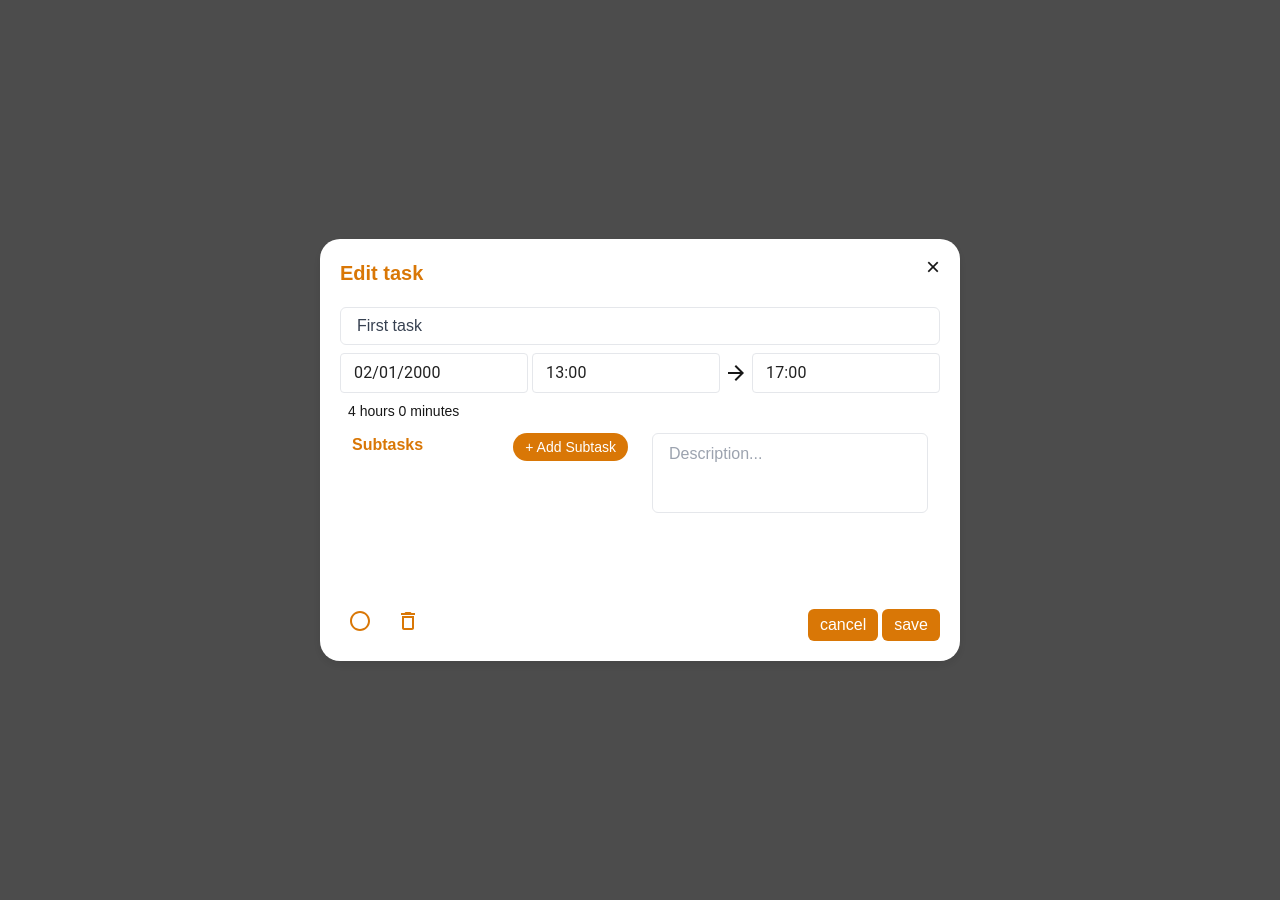
Test case: add subtask button
The image size is (1280, 900).
Click the button "+ Add Subtask".
click(571, 447)  # box [513,433,628,461]
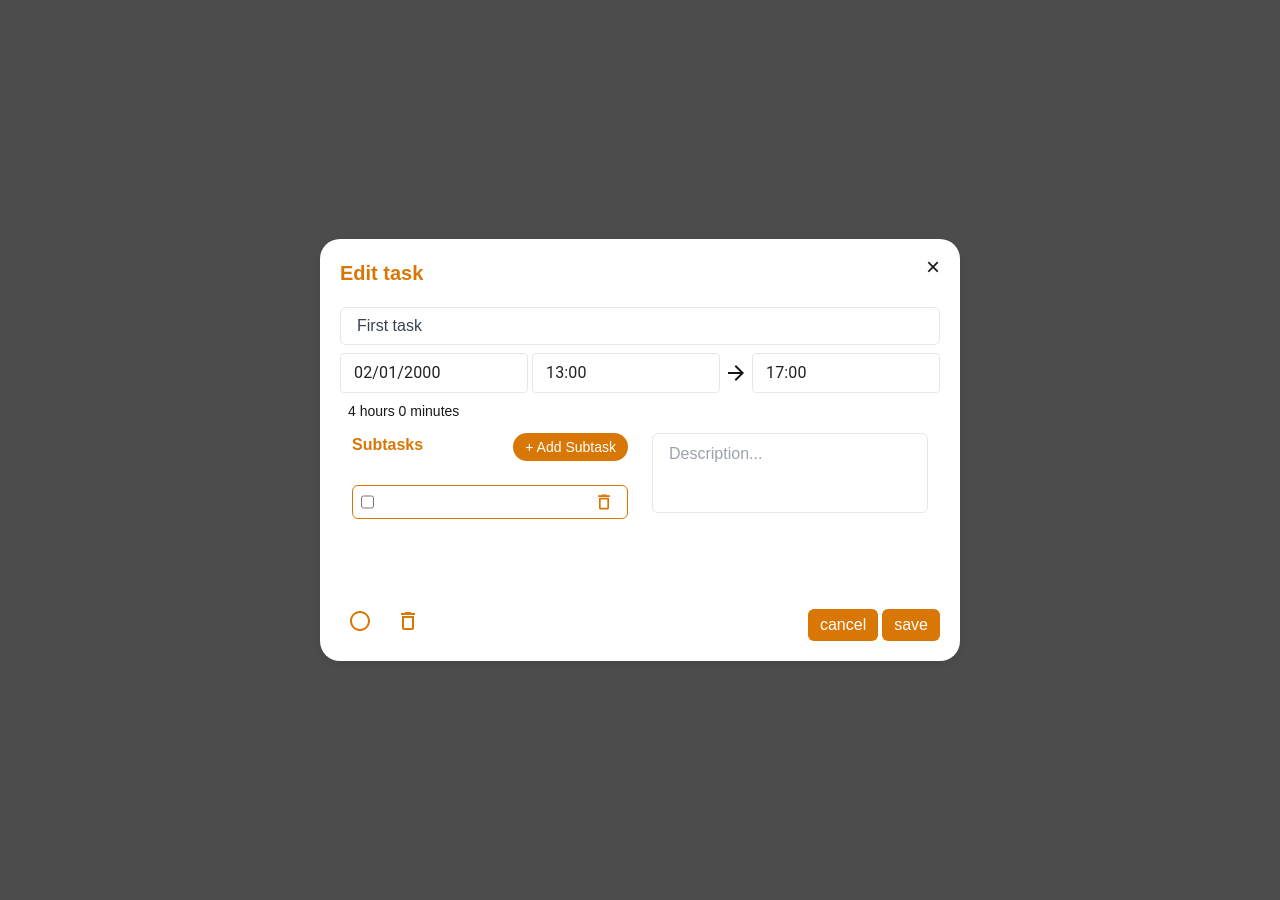
Result: the number of list items is 1 at [352,485,628,519]
Click the button "+ Add Subtask".
click(571, 447)  # box [513,433,628,461]
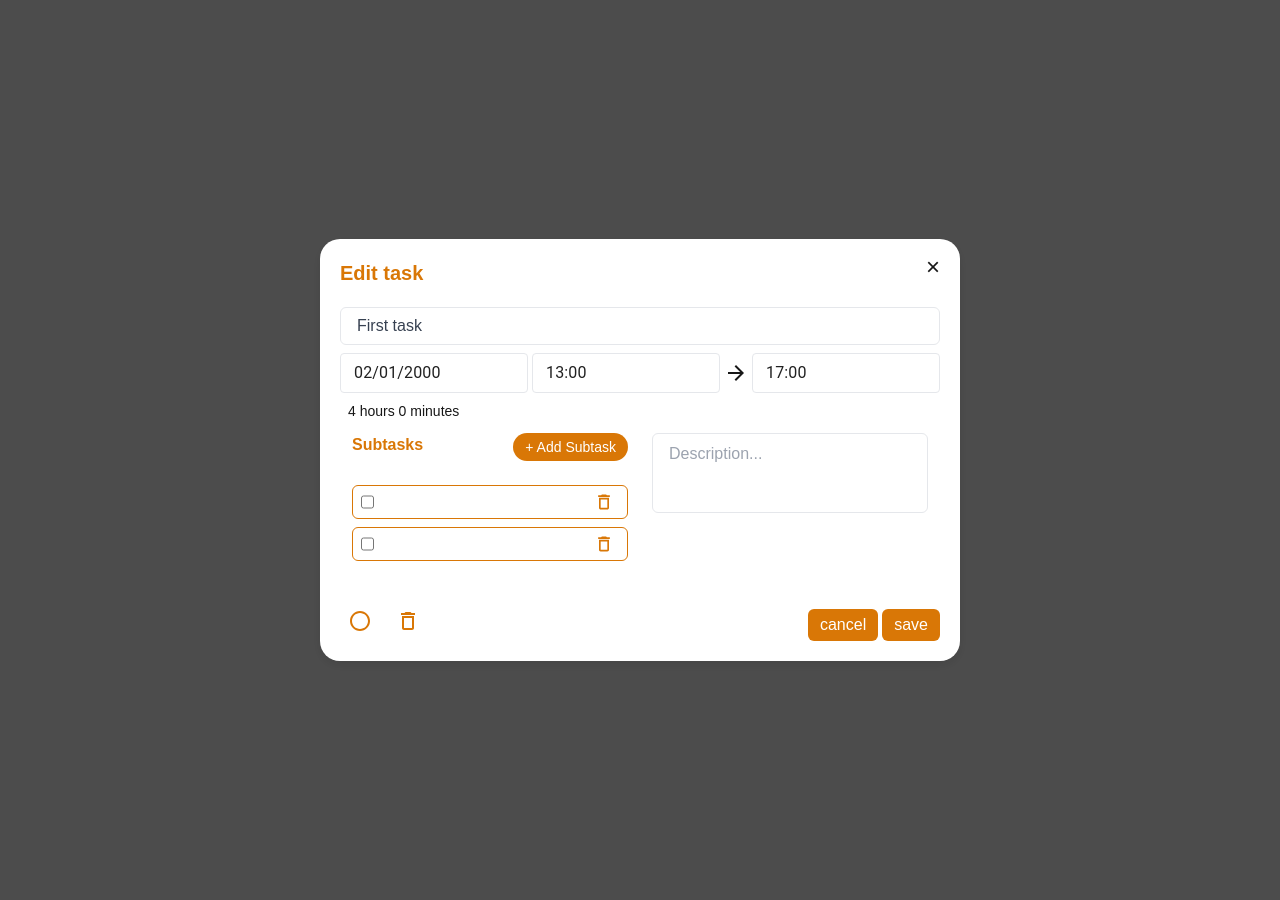
Result: the number of list items is 2 at [352,485,628,519]; [352,527,628,561]
